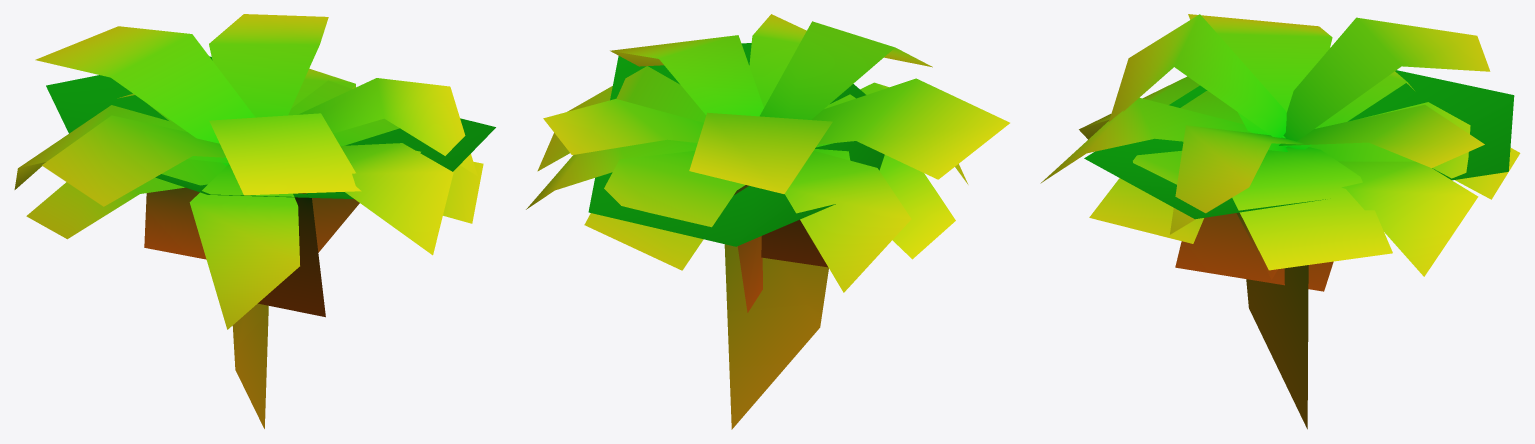
Rendered from Water Cabbage_LOD2_Var6_sjdlV.fbx.
3 renders of one model, left to right at view 1: azimuth 30°, elevation 25°; view 2: azimuth 150°, elevation 25°; view 3: azimuth 270°, elevation 25°, orthographic. The views are drawn at different scales.
Parts seen in each view (by area): view 1: _3090_Var6_LOD2; view 2: _3090_Var6_LOD2; view 3: _3090_Var6_LOD2.
Boxes of the visible parts, bbox=[...] form: _3090_Var6_LOD2: bbox=[14, 14, 495, 428]; _3090_Var6_LOD2: bbox=[526, 14, 1009, 429]; _3090_Var6_LOD2: bbox=[1040, 14, 1520, 429].
Size of the model in its own units: 16.91 by 14.63 by 17.54.
